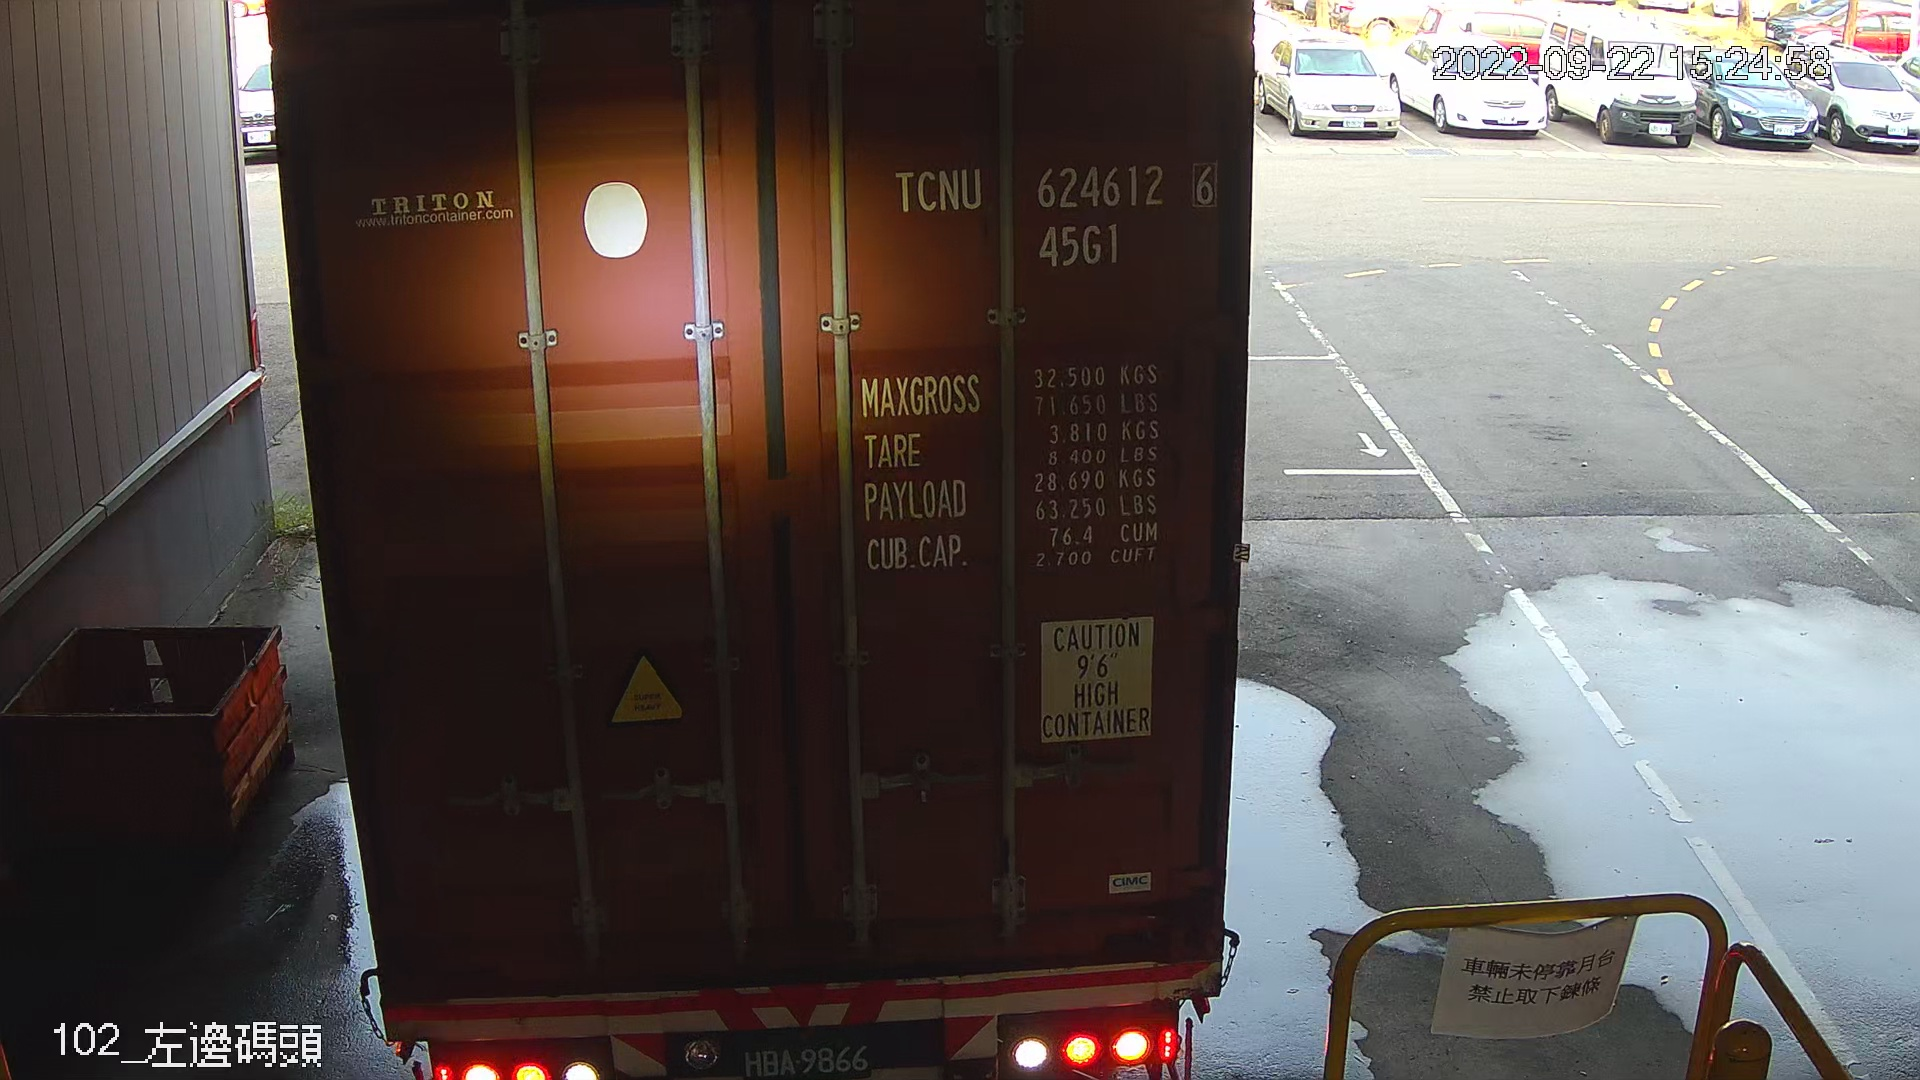container: (866, 146, 1229, 284)
